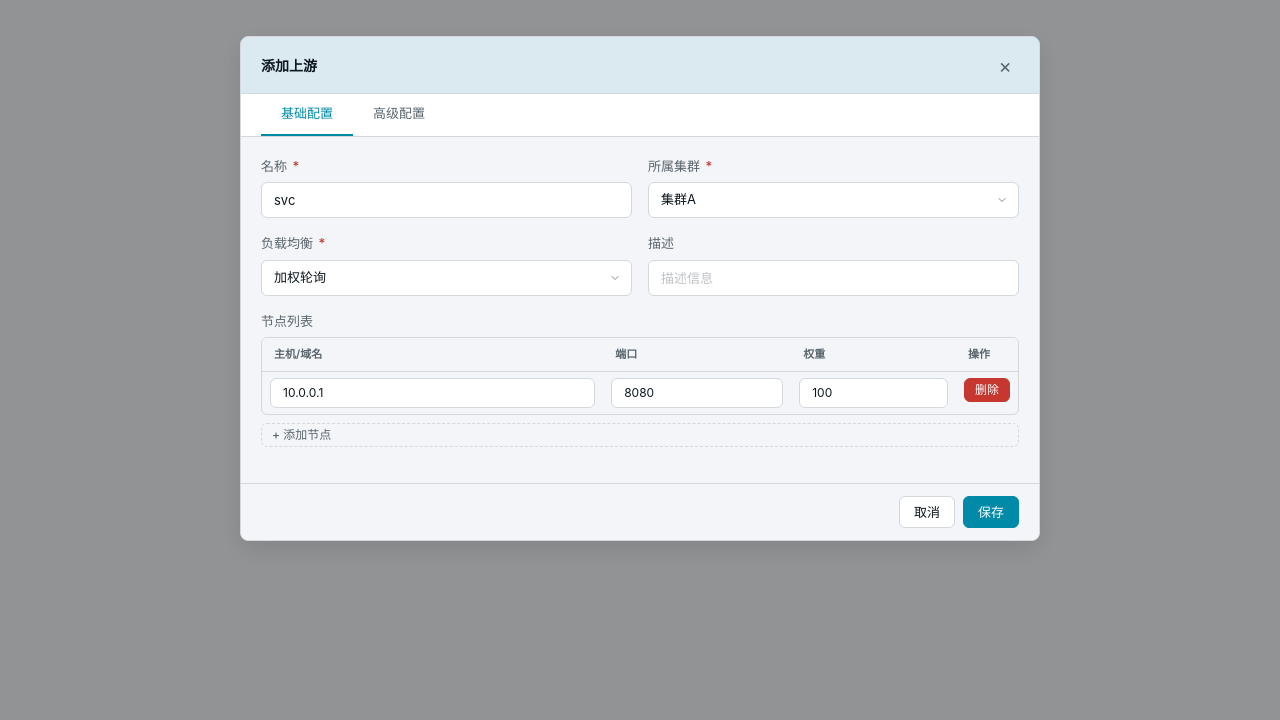
Test case: UpstreamFormModal.vue 校验失败自动切 Tab（4.3） › 高级 Tab 字段（超时）校验失败 → 保存时自动切到高级配置 Tab 且不提交
Click the button "保存": point(991, 512) [963,496,1019,528]
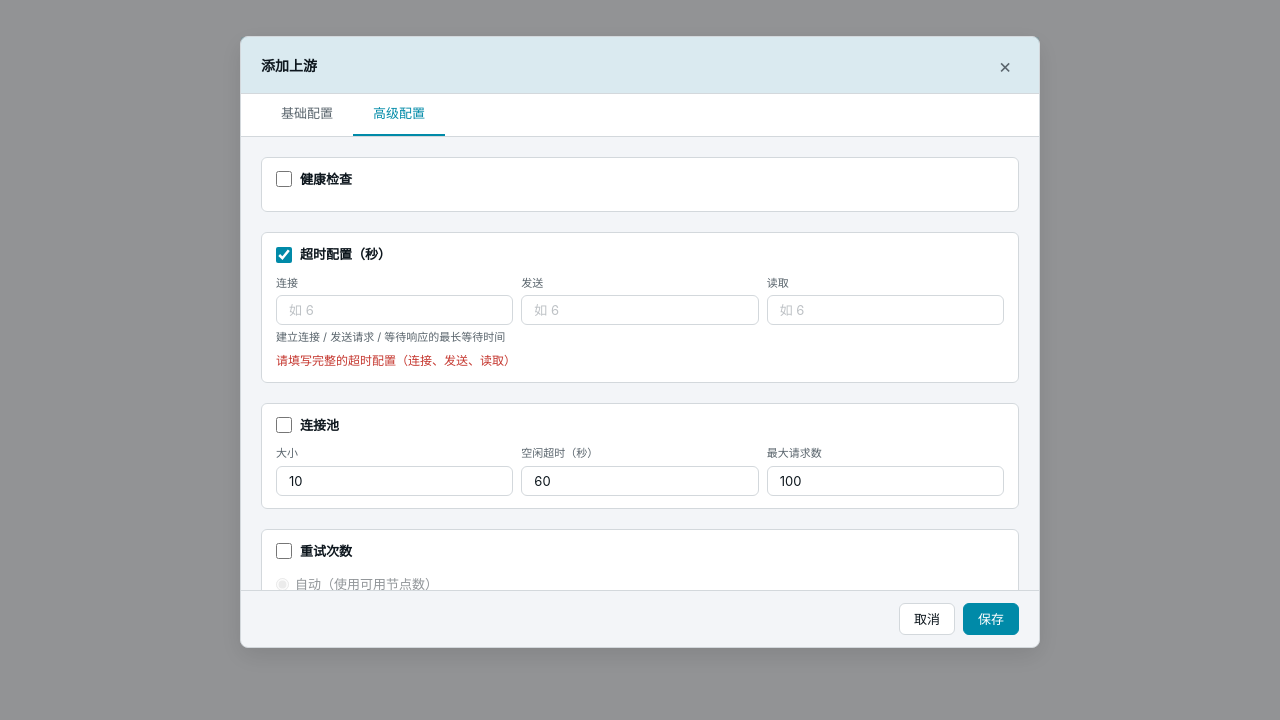
Now the text "请填写完整的超时配置" is shown, box [276,352,516,368]
